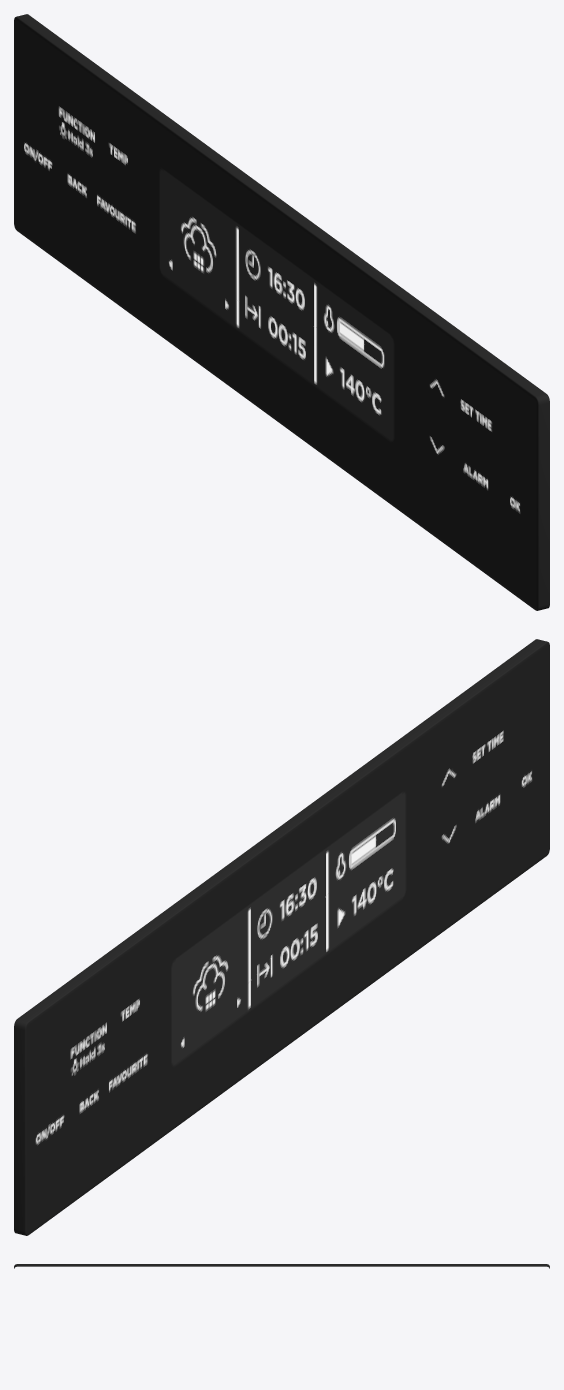
File: baking_11.glb
3 views of the same model, one above another, from view 1: azimuth 30°, elevation 25°; view 2: azimuth 150°, elevation 25°; view 3: azimuth 270°, elevation 25° (orthographic). The views are drawn at different scales.
Parts seen in each view (by area): view 1: StaticMeshActor_54_005; view 2: StaticMeshActor_54_005; view 3: StaticMeshActor_54_005.
Part boxes in pixels (x1,y1,x2,y2): StaticMeshActor_54_005: [14, 14, 549, 610]; StaticMeshActor_54_005: [14, 639, 549, 1235]; StaticMeshActor_54_005: [14, 1264, 549, 1268].
Bounding box in the file's own units: 0.00359 × 0.0637 × 0.2831.
1 material, 1 textured.
